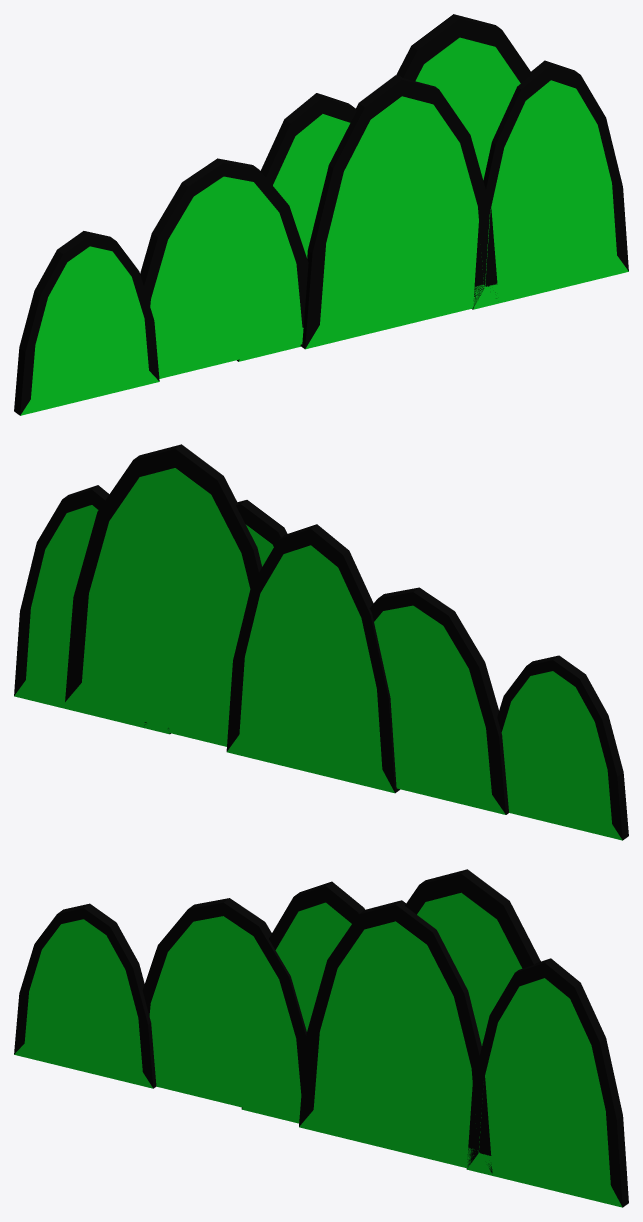
The model's file is Bush04.fbx.
3 views of the same model, one above another, from view 1: azimuth 30°, elevation 25°; view 2: azimuth 150°, elevation 25°; view 3: azimuth 330°, elevation 25° (orthographic).
Parts seen in each view (by area): view 1: Circle.012; view 2: Circle.012; view 3: Circle.012.
Boxes of the visible parts, box(x1,y1,x2,y2) form: Circle.012: box(14, 14, 628, 415); Circle.012: box(14, 444, 628, 840); Circle.012: box(14, 869, 628, 1207).
Bounding box in the file's own units: 83.2 × 37.96 × 2.58.
